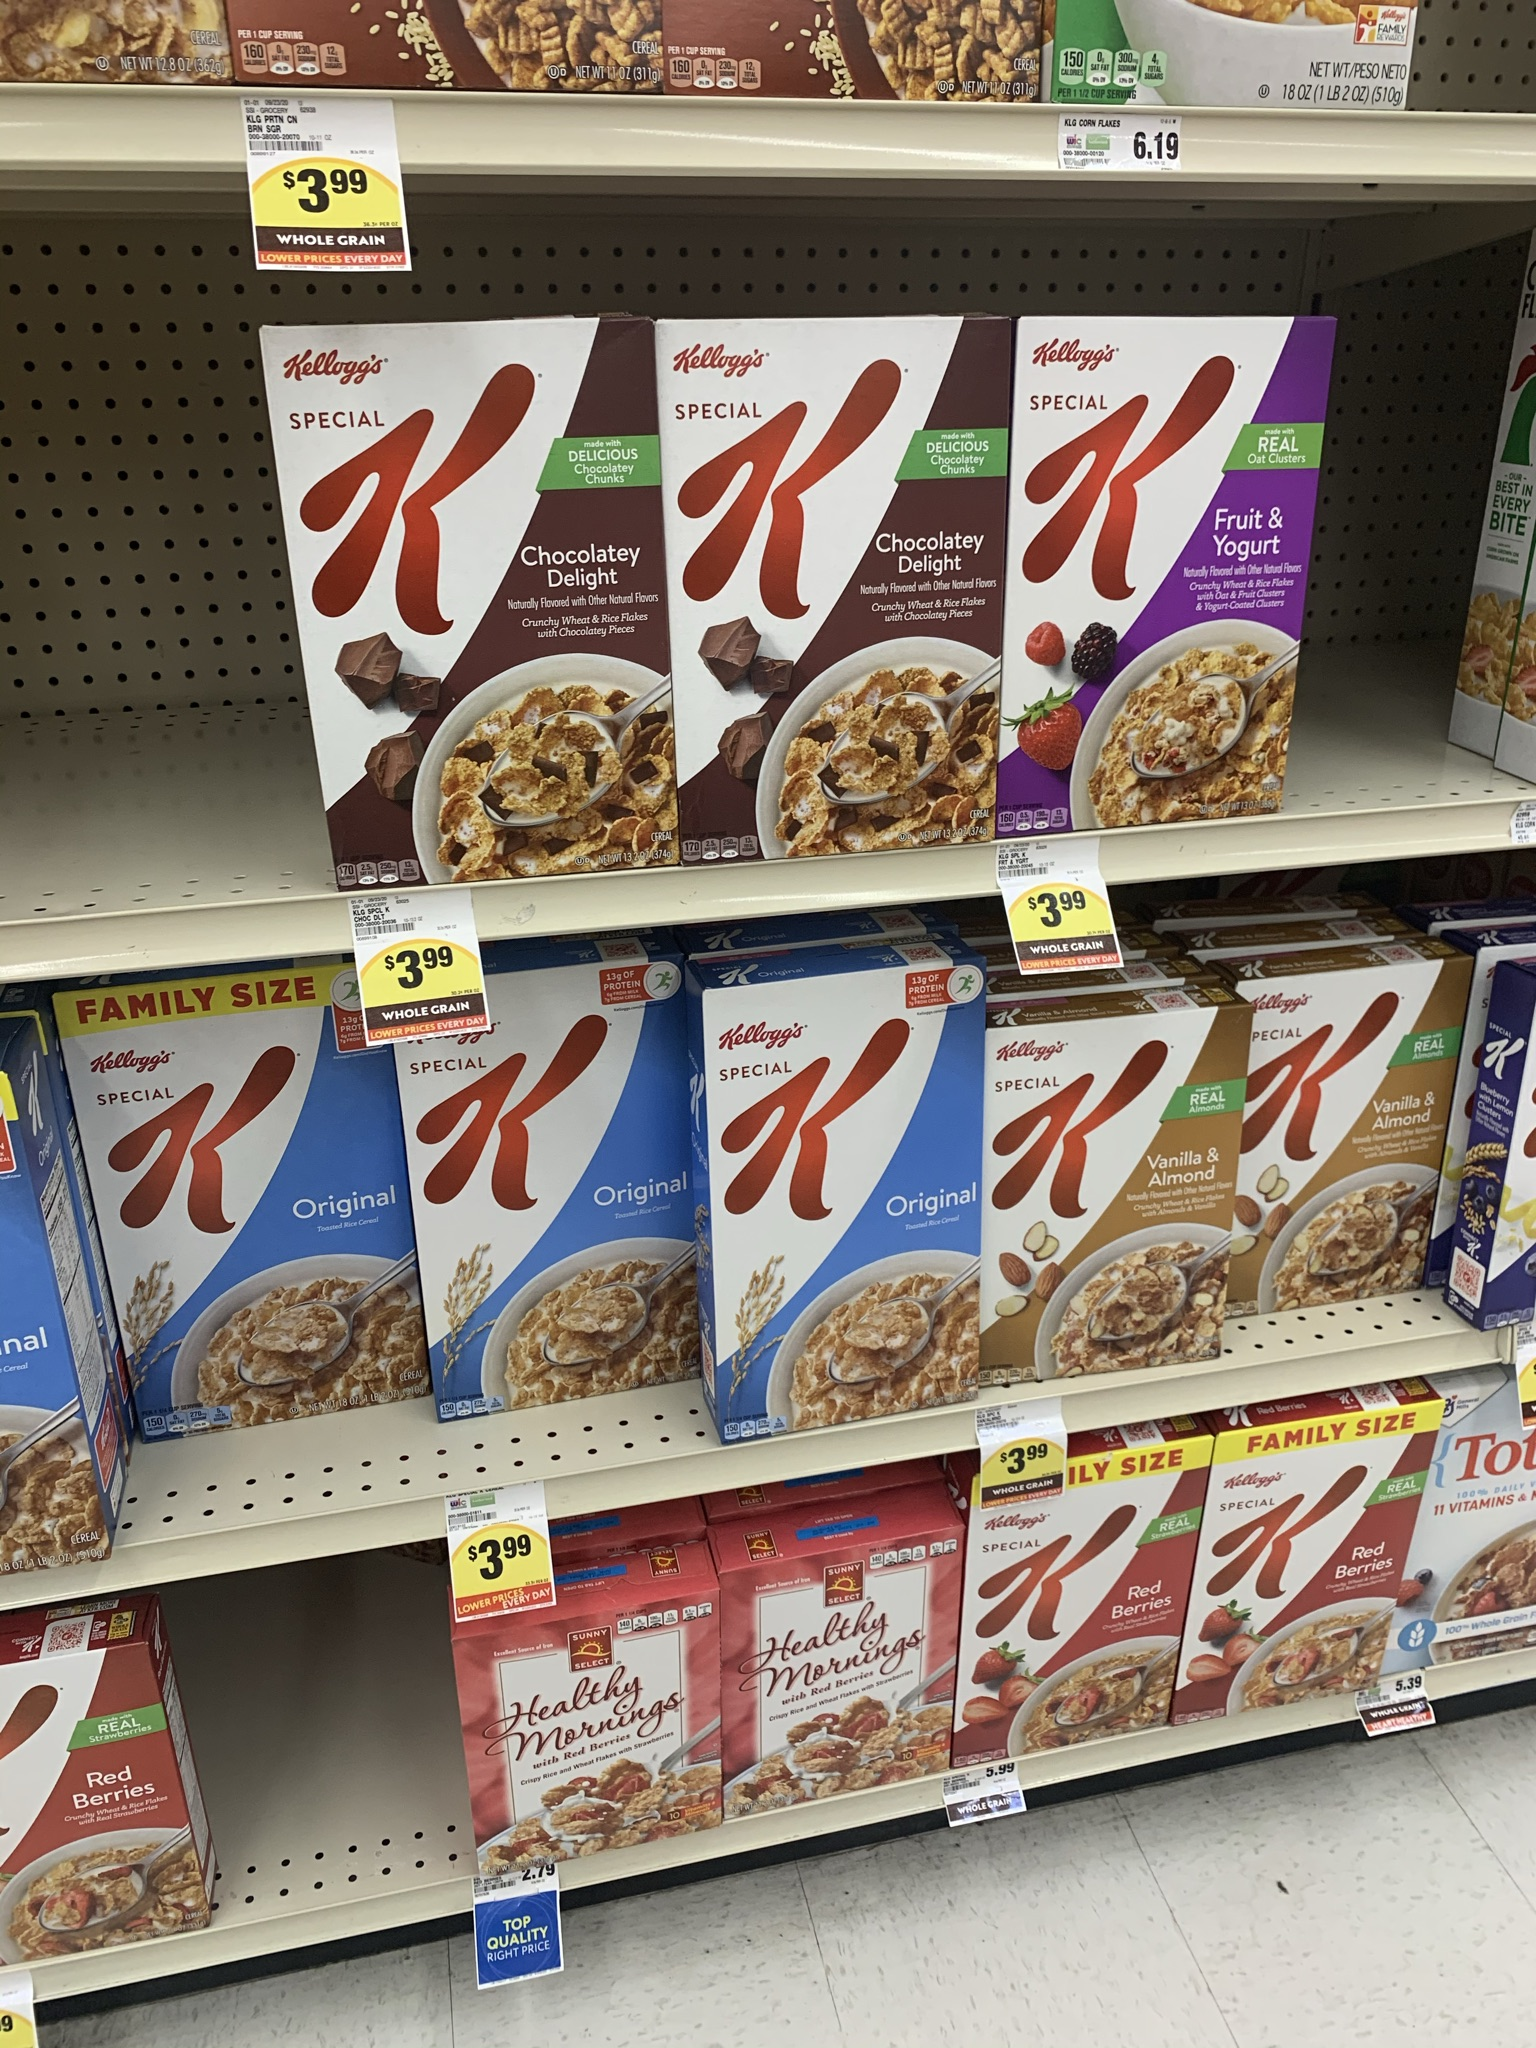Cereal healthy morning: (449, 1616, 715, 1880), (737, 1576, 963, 1784)
Cereal kellogs: (266, 331, 689, 869), (699, 329, 994, 834), (53, 1001, 408, 1416), (1033, 329, 1307, 805), (707, 993, 984, 1443), (415, 992, 707, 1392), (989, 1034, 1226, 1351), (979, 1476, 1184, 1788), (1220, 1438, 1392, 1775), (1262, 997, 1463, 1279)
